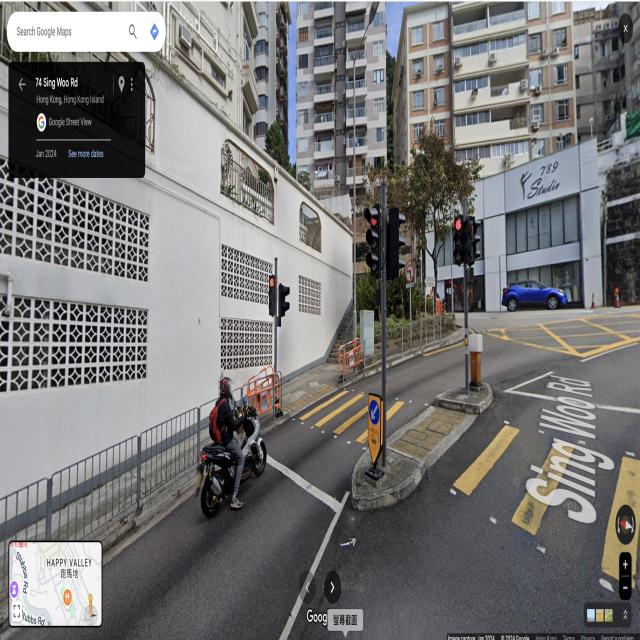Order-Sign: (368, 398, 380, 425), (406, 265, 414, 282)
